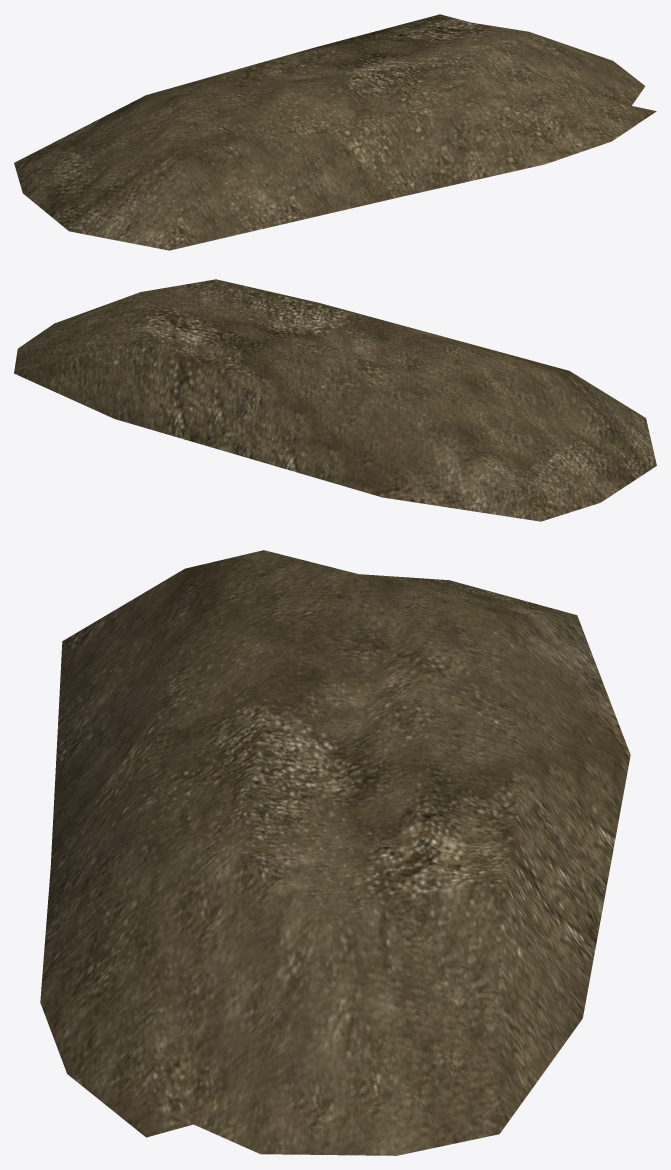
File: pir_m_prp_cem_burial_1.fbx
3 renders of one model, top to bottom at view 1: azimuth 30°, elevation 25°; view 2: azimuth 150°, elevation 25°; view 3: azimuth 270°, elevation 25°, orthographic. The views are drawn at different scales.
Visible parts, largest first — view 1: lod_high; view 2: lod_high; view 3: lod_high.
Part boxes in pixels (x1,y1,x2,y2): lod_high: (14, 14, 656, 250); lod_high: (14, 279, 656, 521); lod_high: (40, 550, 630, 1155).
Size of the model in its own units: 1416 by 194 by 621.
Materials: 1 (1 with a texture image).
